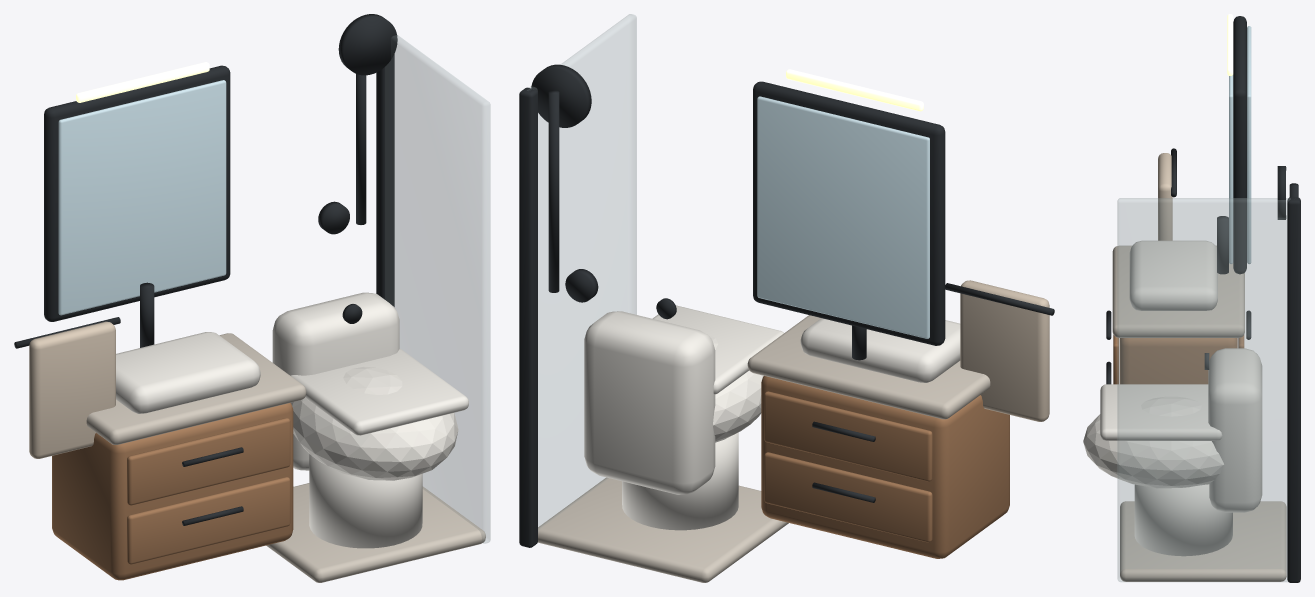
The model's file is project-warm-minimal-bathroom.glb.
3 renders of one model, left to right at view 1: azimuth 30°, elevation 25°; view 2: azimuth 150°, elevation 25°; view 3: azimuth 270°, elevation 25°, orthographic. The views are drawn at different scales.
Parts seen in each view (by area): view 1: shower-glass, mirror-face-back, vanity, folded-towel, toilet-bowl, toilet-tank, basin, vanity-drawer-lower, vanity-drawer-upper, toilet-base, shower-tray, toilet-seat (+8 smaller); view 2: mirror-face-front, shower-glass, toilet-tank, vanity, shower-tray, folded-towel, shower-rail, vanity-top, vanity-drawer-upper-back, vanity-drawer-lower-back, mirror-frame, basin (+8 smaller); view 3: shower-glass, shower-tray, toilet-tank, toilet-bowl, basin, toilet-base, vanity-top, toilet-seat, shower-rail, vanity, mirror-frame, folded-towel (+6 smaller).
Boxes of the visible parts, x1,y1,x2,y2 form: shower-glass: (385, 35, 490, 543); mirror-face-back: (58, 80, 226, 315); vanity: (52, 403, 293, 580); folded-towel: (29, 321, 115, 458); toilet-bowl: (291, 366, 458, 480); toilet-tank: (272, 292, 399, 470); basin: (116, 332, 260, 413); vanity-drawer-lower: (127, 477, 290, 564); vanity-drawer-upper: (127, 418, 290, 505); toilet-base: (309, 454, 422, 548); shower-tray: (266, 483, 485, 582); toilet-seat: (290, 349, 468, 435); mirror-face-front: (757, 96, 929, 338); shower-glass: (529, 14, 636, 531); toilet-tank: (584, 311, 715, 494); vanity: (761, 376, 1009, 558); shower-tray: (538, 477, 788, 582); folded-towel: (960, 280, 1049, 421); shower-rail: (519, 87, 537, 547); vanity-top: (747, 315, 990, 419); vanity-drawer-upper-back: (764, 391, 932, 481); vanity-drawer-lower-back: (764, 452, 932, 542); mirror-frame: (753, 81, 945, 345); basin: (800, 318, 960, 382); shower-glass: (1117, 198, 1289, 581); shower-tray: (1120, 501, 1286, 581); toilet-tank: (1208, 348, 1262, 512); toilet-bowl: (1083, 396, 1223, 488); basin: (1129, 240, 1217, 310); toilet-base: (1134, 484, 1232, 556); vanity-top: (1112, 245, 1244, 337); toilet-seat: (1100, 384, 1222, 440); shower-rail: (1287, 197, 1300, 582); vanity: (1120, 338, 1237, 384); mirror-frame: (1233, 16, 1246, 274); folded-towel: (1158, 153, 1172, 240).
Size of the model in its own units: 1.82 by 1.91 by 0.8872.
